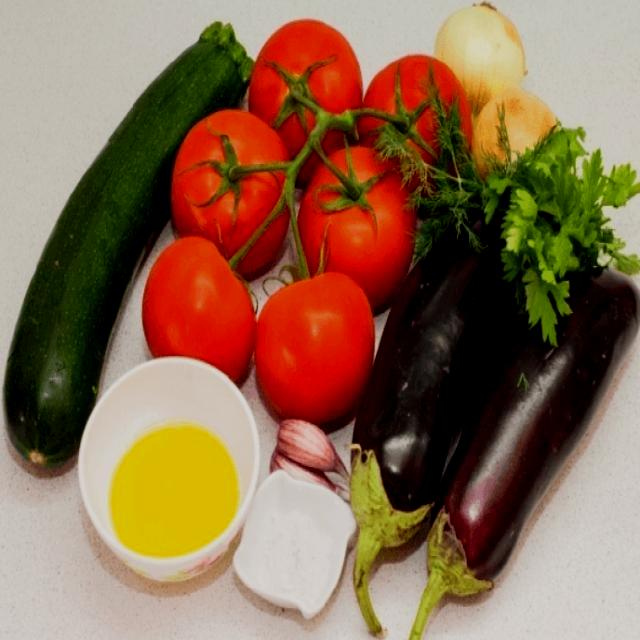eggplant: (444, 275, 635, 589), (362, 258, 529, 534)
garlic: (271, 415, 353, 483)
onion: (435, 1, 527, 104), (471, 84, 570, 154)
tomato: (254, 281, 370, 421), (148, 239, 252, 375), (257, 23, 361, 159), (311, 140, 403, 292), (365, 43, 460, 183), (181, 120, 278, 248)
zucchini: (25, 23, 252, 465)
